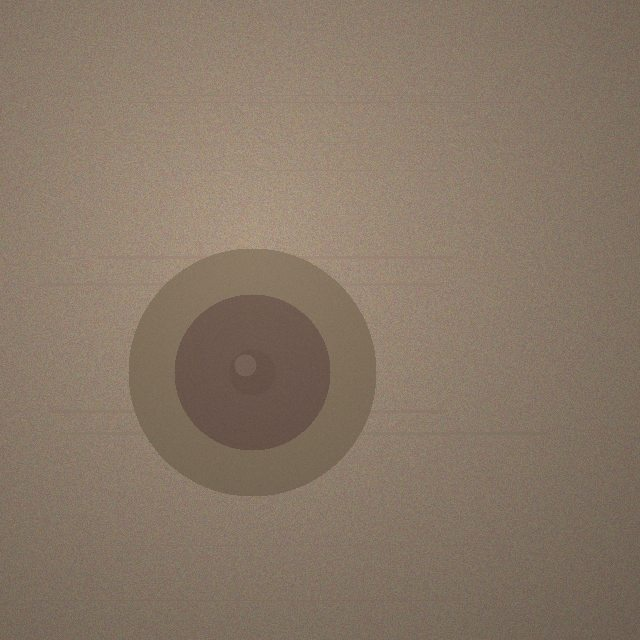good: (128, 248, 376, 496)
